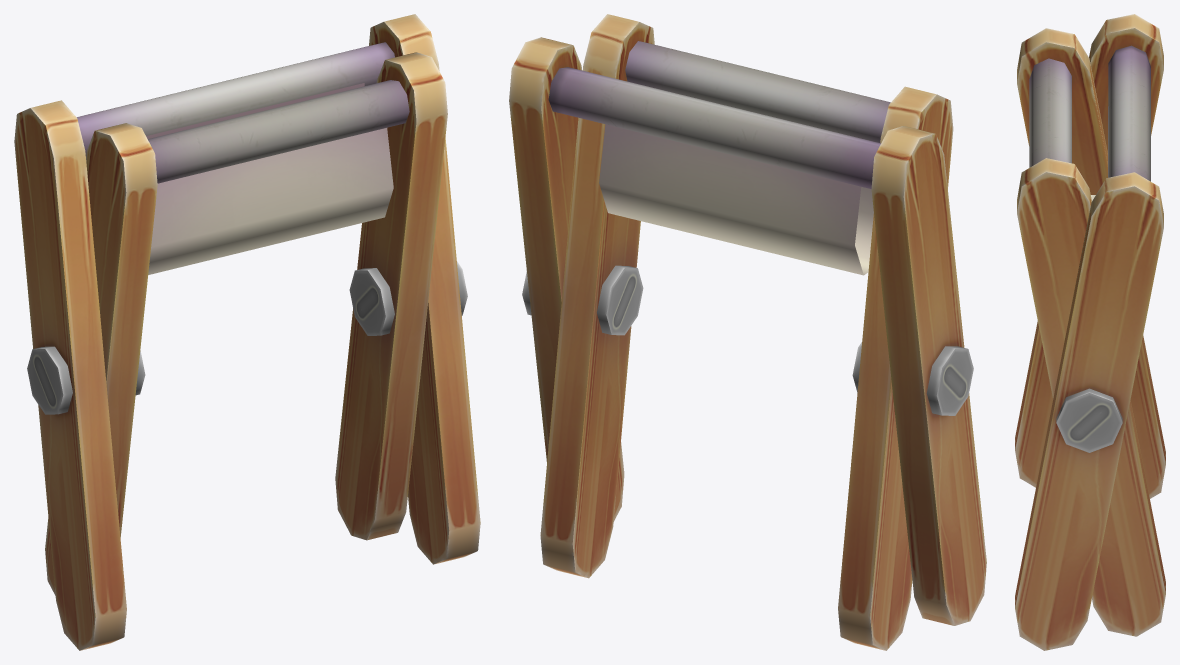
File: SE_Seat_02.fbx
3 renders of one model, left to right at view 1: azimuth 30°, elevation 25°; view 2: azimuth 150°, elevation 25°; view 3: azimuth 270°, elevation 25°, orthographic. The views are drawn at different scales.
Visible parts, largest first — view 1: SE_Seat_02; view 2: SE_Seat_02; view 3: SE_Seat_02.
Part boxes in pixels (x1=…): SE_Seat_02: x1=14, y1=14, x2=480, y2=650; SE_Seat_02: x1=509, y1=14, x2=986, y2=650; SE_Seat_02: x1=1015, y1=14, x2=1165, y2=650.
Bounding box in the file's own units: 1.48 × 1.78 × 0.5228.
